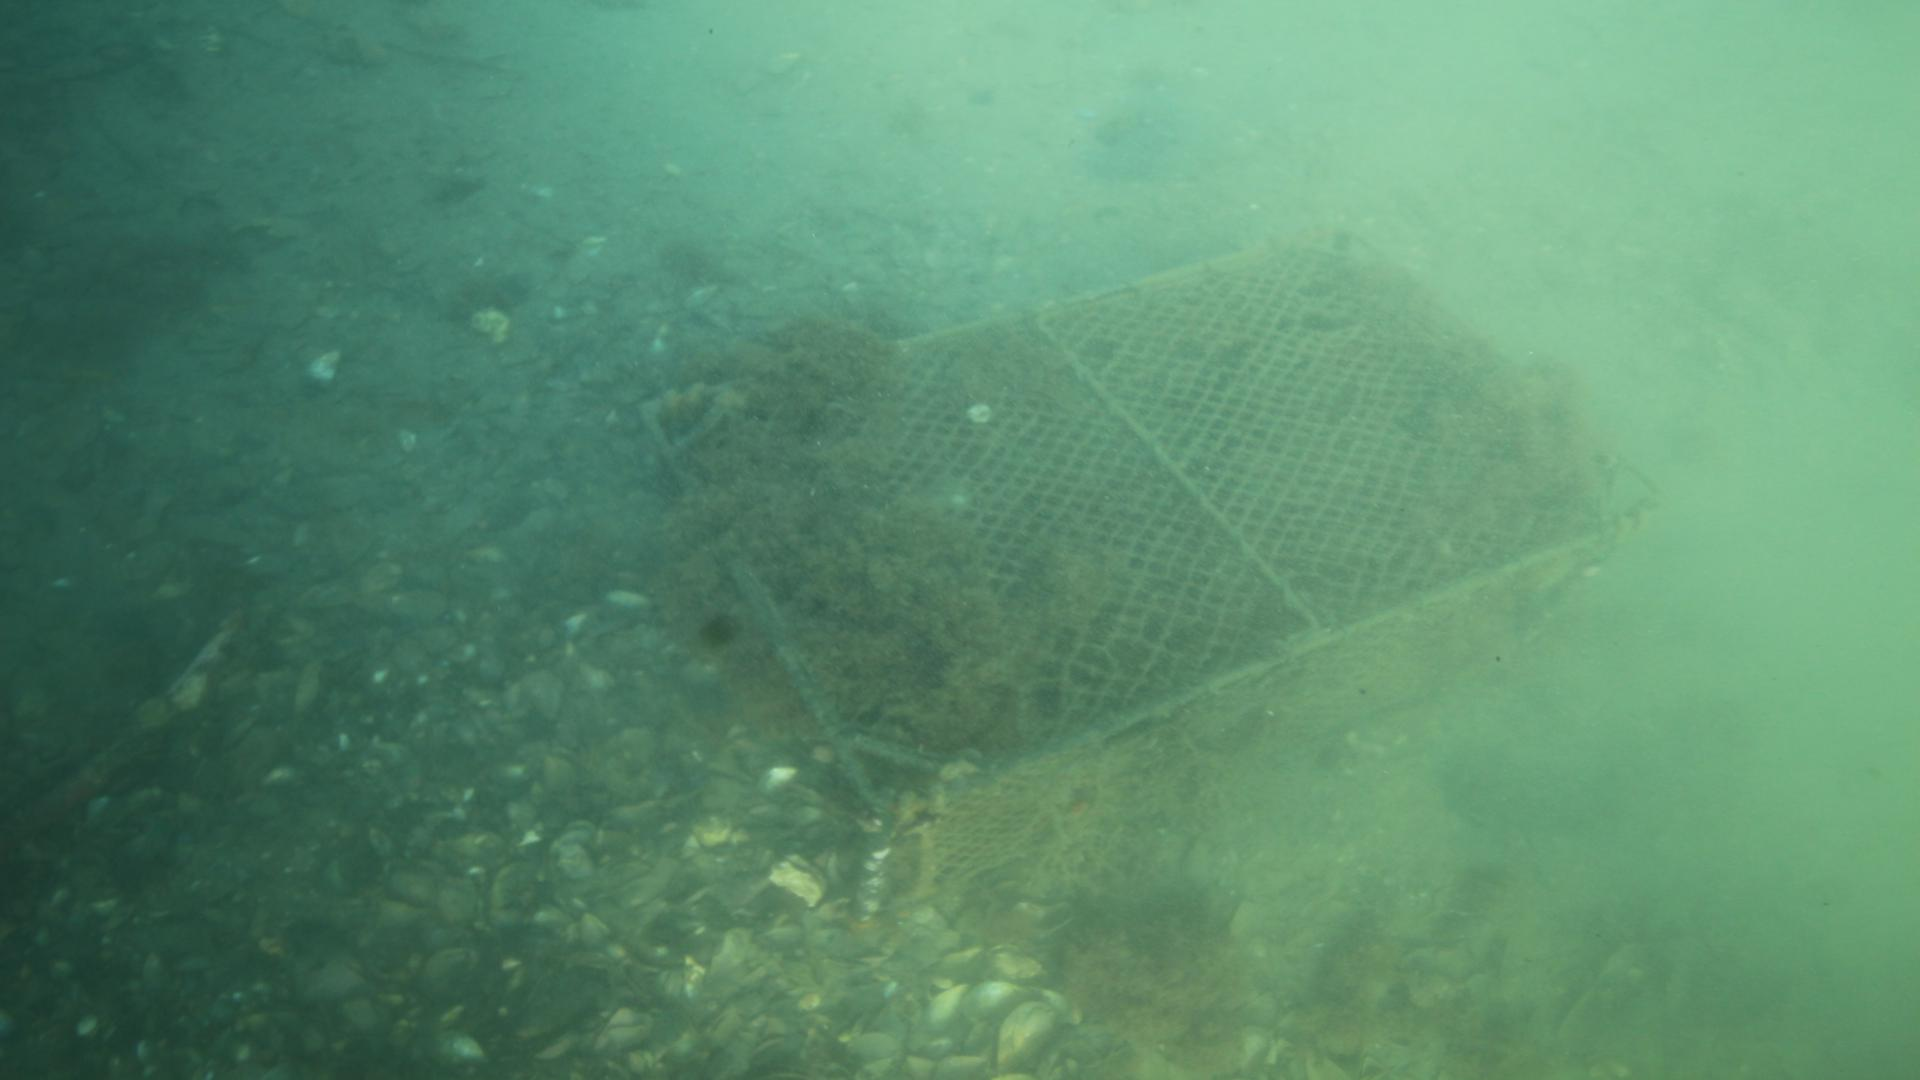rectangular fish trap: (640, 239, 1671, 932)
